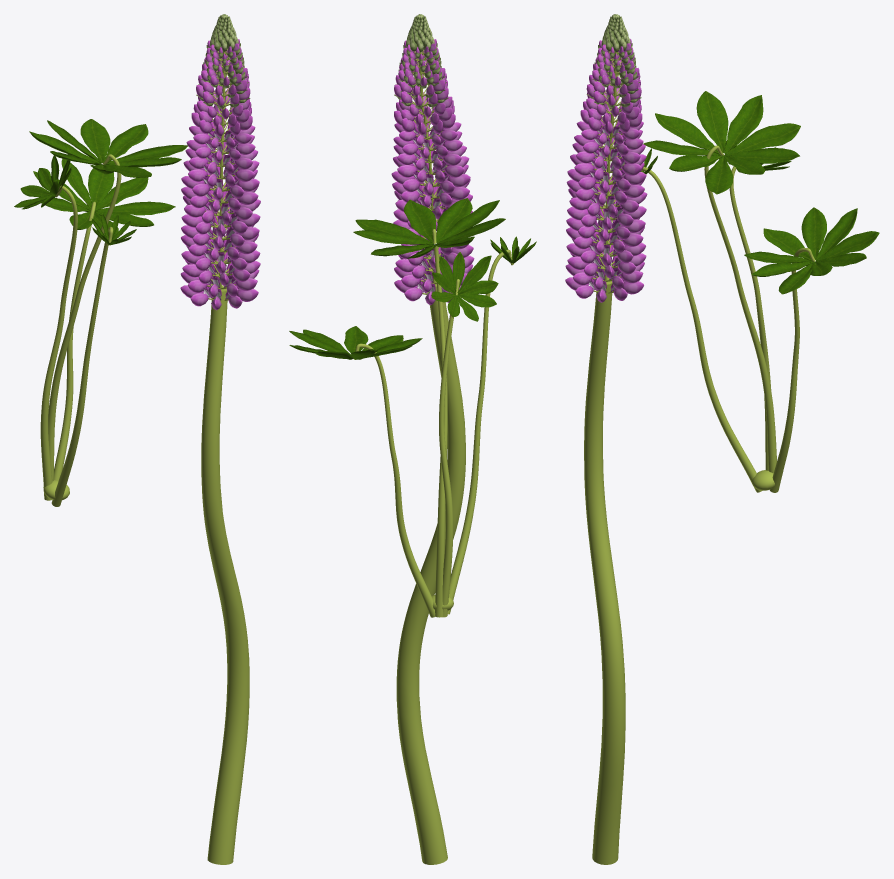
The model's file is lupin.glb.
3 views of the same model, side by side, from view 1: azimuth 30°, elevation 25°; view 2: azimuth 150°, elevation 25°; view 3: azimuth 270°, elevation 25° (orthographic).
Parts seen in each view (by area): view 1: pink, Hampe_Tige, Plane.008 (×4), Petiole_4, Plane.011 (×3), Petiole_1, Petiole_2, Petiole_3, Plane.010 (×2); view 2: pink, Hampe_Tige, Petiole_2, Petiole_4, Plane.010 (×3), Petiole_1, Petiole_3, Plane.011 (×2), Plane.008 (×2); view 3: pink, Hampe_Tige, Plane.010 (×5), Plane.008 (×4), Plane.011 (×3), Petiole_2, Petiole_1, Petiole_3, Petiole_4.
Part boxes in pixels (x1,y1,x2,y2): pink: (180, 14, 260, 310); Hampe_Tige: (201, 288, 249, 864); Plane.008 (×4): (80, 119, 187, 215); Petiole_4: (40, 185, 77, 500); Plane.011 (×3): (61, 124, 148, 210); Petiole_1: (48, 154, 121, 481); Petiole_2: (51, 226, 113, 506); Petiole_3: (54, 201, 95, 480); Plane.010 (×2): (29, 131, 181, 167); pink: (391, 14, 474, 305); Hampe_Tige: (396, 284, 465, 864); Petiole_2: (447, 249, 513, 614); Petiole_4: (439, 279, 459, 617); Plane.010 (×3): (404, 199, 499, 294); Petiole_1: (432, 229, 447, 617); Petiole_3: (353, 343, 435, 617); Plane.011 (×2): (353, 198, 472, 245); Plane.008 (×2): (355, 218, 505, 244); pink: (565, 14, 647, 302); Hampe_Tige: (584, 277, 625, 864); Plane.010 (×5): (655, 95, 857, 261); Plane.008 (×4): (696, 91, 826, 259); Plane.011 (×3): (643, 123, 879, 261); Petiole_2: (641, 167, 762, 492); Petiole_1: (704, 145, 776, 473); Petiole_3: (770, 248, 815, 492); Petiole_4: (729, 166, 771, 470).
Bounding box in the file's own units: 0.1395 × 0.6477 × 0.2173.
6 materials, 4 textured.
